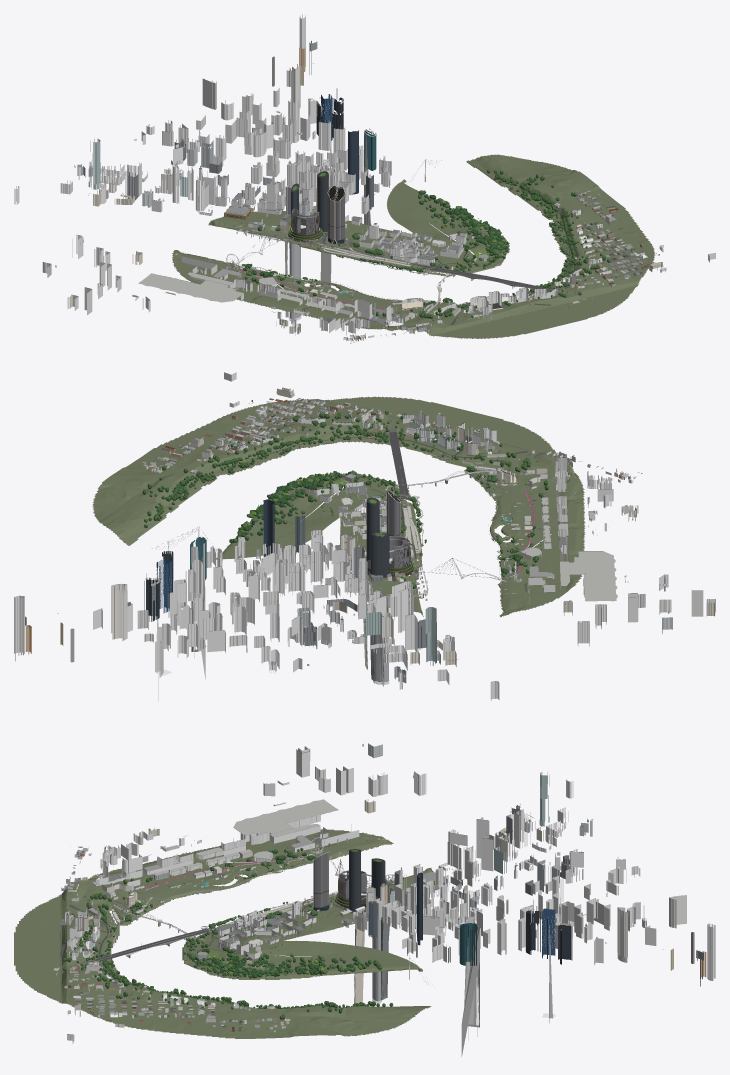
Rendered from south_brisbane.glb.
3 views of the same model, one above another, from view 1: azimuth 30°, elevation 25°; view 2: azimuth 150°, elevation 25°; view 3: azimuth 270°, elevation 25° (orthographic). The views are drawn at different scales.
Parts seen in each view (by area): view 1: cor_ground, cor_shared, cor_trees, cor_gen_office_wall, tower_queenswharf, cor_gen_w_res0_r2_wall, cor_gen_w_res1_r2_wall, cor_gen_w_res3_r2_wall, cor_gen_w_office3_r2_wall, cor_gen_w_res2_r2_wall, cor_gen_w_office4_r2_wall, tower_william1 (+6 smaller); view 2: cor_ground, cor_shared, cor_trees, cor_gen_office_wall, tower_queenswharf, cor_gen_w_res3_r2_wall, cor_gen_w_res0_r2_wall, cor_gen_w_res1_r2_wall, cor_gen_w_office3_r2_wall, cor_gen_w_res2_r2_wall, cor_gen_w_res0_r3_wall, cor_gen_w_office5_r2_wall (+7 smaller); view 3: cor_ground, cor_shared, cor_trees, tower_queenswharf, cor_gen_office_wall, cor_gen_w_res0_r2_wall, cor_gen_w_res1_r2_wall, cor_gen_w_res2_r2_wall, cor_gen_w_office3_r2_wall, cor_gen_w_res3_r2_wall, cor_gen_w_office1_r4_wall, cor_gen_w_office5_r2_wall (+8 smaller).
Part boxes in pixels (x1,y1,x2,y2): cor_ground: (172, 154, 655, 338); cor_shared: (42, 14, 715, 343); cor_trees: (242, 169, 610, 318); cor_gen_office_wall: (214, 97, 345, 176); tower_queenswharf: (277, 171, 331, 320); cor_gen_w_res0_r2_wall: (74, 130, 567, 325); cor_gen_w_res1_r2_wall: (69, 120, 433, 336); cor_gen_w_res3_r2_wall: (215, 151, 582, 335); cor_gen_w_office3_r2_wall: (100, 162, 384, 248); cor_gen_w_res2_r2_wall: (14, 158, 602, 290); cor_gen_w_office4_r2_wall: (141, 131, 329, 274); tower_william1: (327, 184, 345, 244); cor_ground: (92, 396, 585, 617); cor_shared: (14, 372, 715, 701); cor_trees: (142, 410, 548, 588); cor_gen_office_wall: (127, 560, 279, 657); tower_queenswharf: (344, 497, 414, 686); cor_gen_w_res3_r2_wall: (206, 427, 612, 596); cor_gen_w_res0_r2_wall: (238, 421, 601, 676); cor_gen_w_res1_r2_wall: (215, 479, 715, 664); cor_gen_w_office3_r2_wall: (234, 515, 417, 670); cor_gen_w_res2_r2_wall: (215, 414, 637, 700); cor_gen_w_res0_r3_wall: (269, 420, 638, 673); cor_gen_w_office5_r2_wall: (253, 548, 413, 645); cor_ground: (14, 829, 431, 1038); cor_shared: (47, 743, 715, 1056); cor_trees: (62, 847, 393, 1019); tower_queenswharf: (335, 849, 400, 1003); cor_gen_office_wall: (496, 875, 644, 965); cor_gen_w_res0_r2_wall: (93, 772, 616, 968); cor_gen_w_res1_r2_wall: (88, 748, 626, 955); cor_gen_w_res2_r2_wall: (88, 768, 573, 1014); cor_gen_w_office3_r2_wall: (285, 809, 566, 957); cor_gen_w_res3_r2_wall: (59, 845, 474, 1004); cor_gen_w_office1_r4_wall: (158, 815, 592, 870); cor_gen_w_office5_r2_wall: (395, 829, 526, 930).
Bounding box in the file's own units: 2440 × 669 × 2551.
